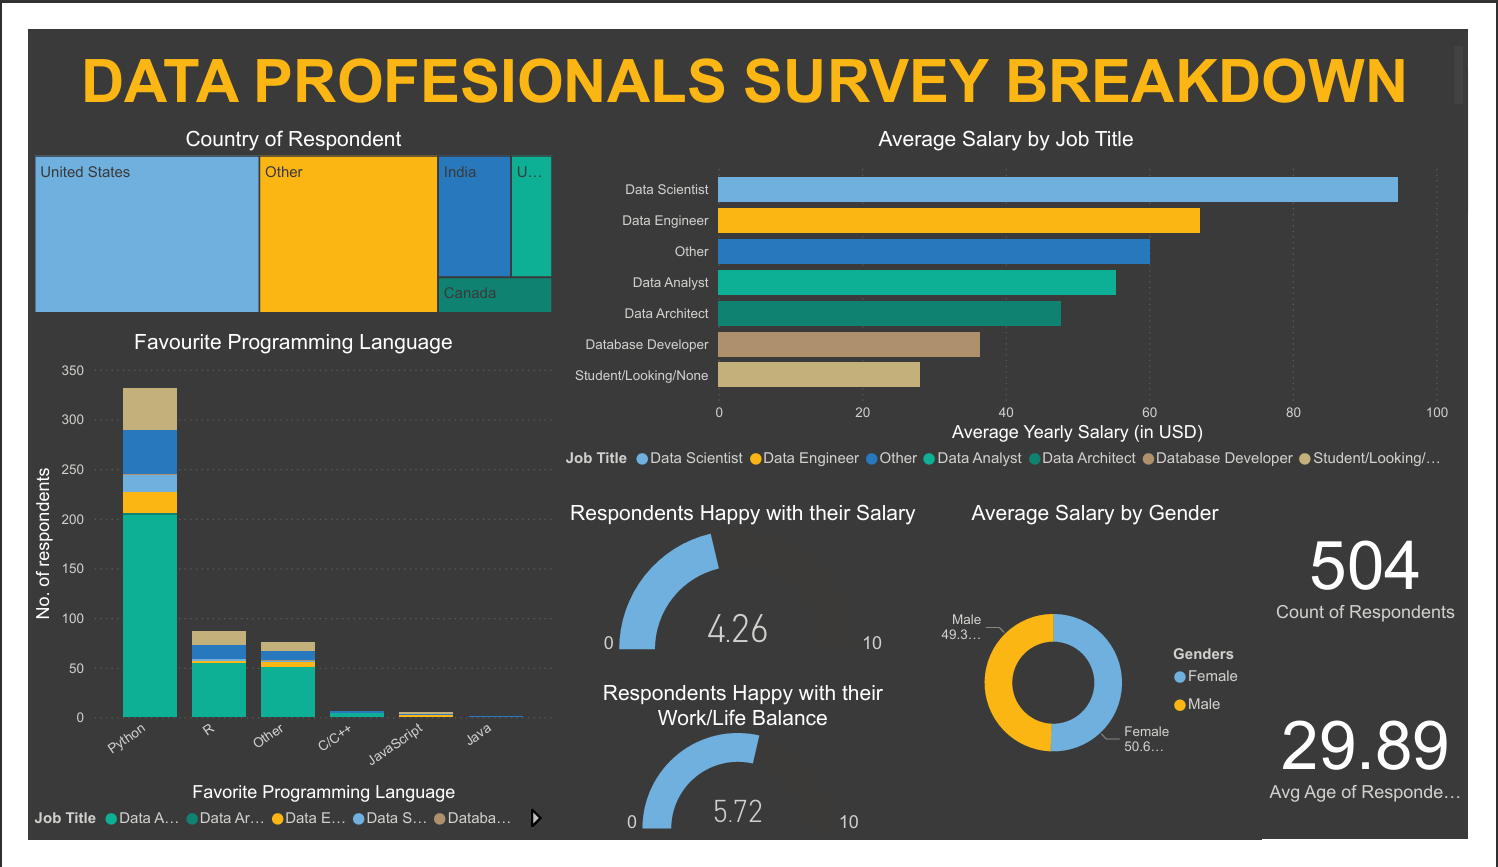

This screenshot's page, from the dashboard's own definition file:
{"tool":"powerbi","page":{"name":"Page 1","canvas":[1280,720],"ordinal":0},"visuals":[{"type":"textbox","box":[0,10,1280,65.7],"z":0},{"type":"card","fields":{"Values":["Count(Data Professional Survey.Unique ID)"]},"box":[1095.7,400,184.3,160],"z":1000},{"type":"card","fields":{"Values":["Avg(Data Professional Survey.Q10 - Current Age)"]},"box":[1095.7,560,184.3,160],"z":2000},{"type":"barChart","title":"Average  Salary by Job Title","fields":{"Category":["Data Professional Survey.Q1 - Which Title Best Fits your Current Role?.1"],"Y":["Avg(Data Professional Survey.Average Yearly Salary (in USD))"],"Series":["Data Professional Survey.Q1 - Which Title Best Fits your Current Role?.1"]},"box":[470,85.7,797.1,314.3],"z":3000},{"type":"columnChart","title":"Favourite Programming Language","fields":{"Category":["Data Professional Survey.Q5 - Favorite Programming Language.1"],"Y":["CountNonNull(Data Professional Survey.Unique ID)"],"Series":["Data Professional Survey.Q1 - Which Title Best Fits your Current Role?.1"]},"box":[0,267.1,470,452.9],"z":4000},{"type":"treemap","title":"Country of Respondent","fields":{"Values":["CountNonNull(Data Professional Survey.Q11 - Which Country do you live in?.1)"],"Group":["Data Professional Survey.Q11 - Which Country do you live in?.1"]},"box":[0,85.7,470,170],"z":5000},{"type":"gauge","title":"Respondents Happy with their Salary","fields":{"Y":["Avg(Data Professional Survey.Q6 - How Happy are you in your Current Position with the following? (Salary))"],"MinValue":["Min(Data Professional Survey.Q6 - How Happy are you in your Current Position with the following? (Salary))"],"MaxValue":["Max(Data Professional Survey.Q6 - How Happy are you in your Current Position with the following? (Salary))"]},"box":[470,418.6,328.6,141.4],"z":6000},{"type":"gauge","title":"Respondents Happy with their Work/Life Balance","fields":{"Y":["Avg(Data Professional Survey.Q6 - How Happy are you in your Current Position with the following? (Work/Life Balance))"],"MinValue":["Min(Data Professional Survey.Q6 - How Happy are you in your Current Position with the following? (Work/Life Balance))"],"MaxValue":["Max(Data Professional Survey.Q6 - How Happy are you in your Current Position with the following? (Work/Life Balance))"]},"box":[470,578.6,328.6,141.4],"z":7000},{"type":"donutChart","title":"Average Salary by Gender","fields":{"Category":["Data Professional Survey.Q9 - Male/Female?"],"Y":["Avg(Data Professional Survey.Average Yearly Salary (in USD))"]},"box":[798.6,418.6,297.1,301.4],"z":8000}]}

Visuals, with their boxes in screenshot pixels (x1, y1, x2, y2), scaled from the page's 1280x720 canvas onto the 1498x867 screenshot:
textbox: [0, 12, 1497, 91]
card - Count(Data Professional Survey.Unique ID): [1282, 482, 1497, 674]
card - Avg(Data Professional Survey.Q10 - Current Age): [1282, 674, 1497, 866]
"Average  Salary by Job Title" barChart: [550, 103, 1483, 482]
"Favourite Programming Language" columnChart: [0, 322, 550, 866]
"Country of Respondent" treemap: [0, 103, 550, 308]
"Respondents Happy with their Salary" gauge: [550, 504, 935, 674]
"Respondents Happy with their Work/Life Balance" gauge: [550, 697, 935, 866]
"Average Salary by Gender" donutChart: [935, 504, 1282, 866]
